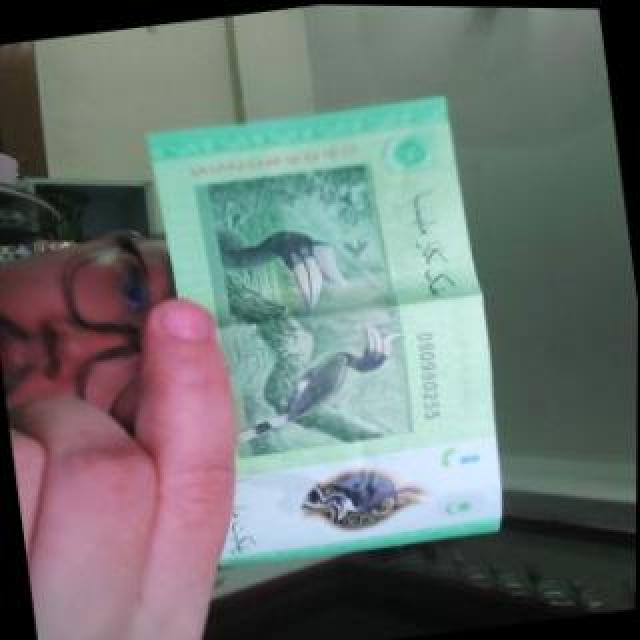5 Ringgit: (140, 86, 515, 592)
